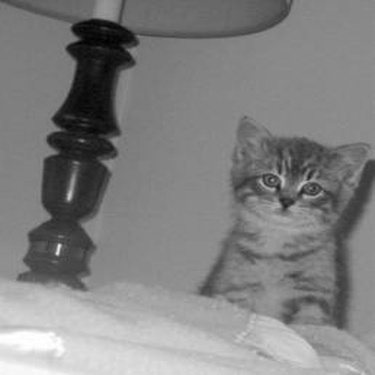cat: (170, 104, 370, 326)
